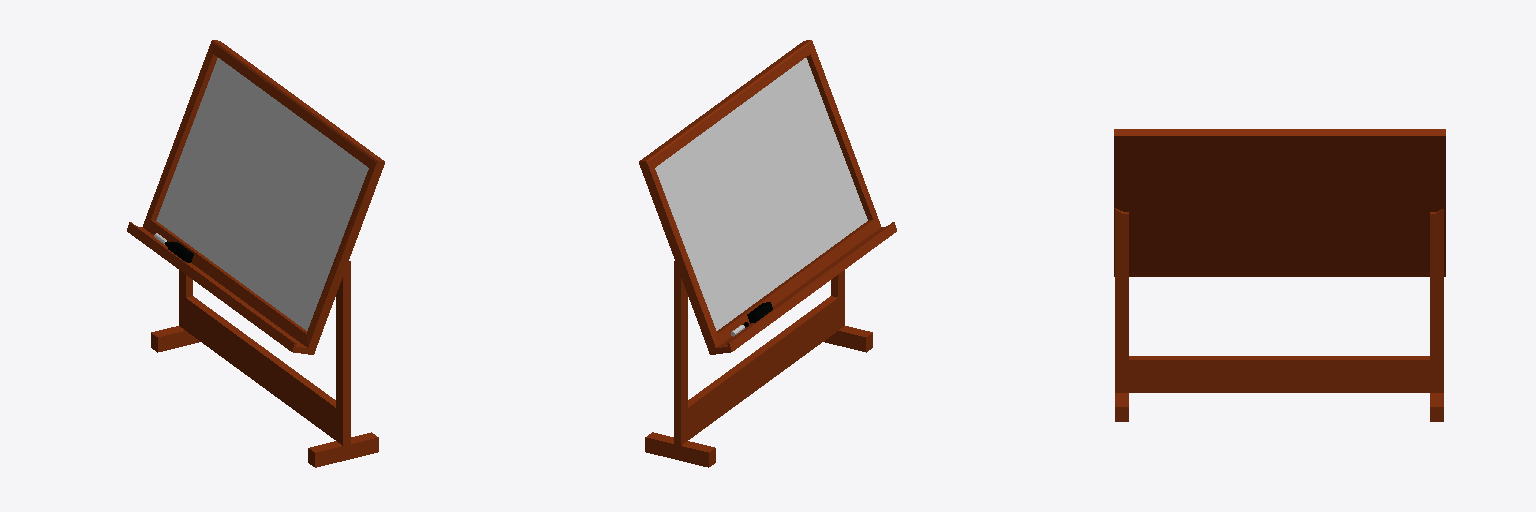
The model's file is whiteboard.obj.
3 views of the same model, side by side, from view 1: azimuth 30°, elevation 25°; view 2: azimuth 150°, elevation 25°; view 3: azimuth 270°, elevation 25° (orthographic).
Visible parts, largest first — view 1: Whiteboard; view 2: Whiteboard; view 3: Whiteboard.
Boxes of the visible parts, <box> form: Whiteboard: <box>127,40,384,467</box>; Whiteboard: <box>639,40,896,467</box>; Whiteboard: <box>1114,129,1445,421</box>.
Size of the model in its own units: 1.19 by 3.55 by 3.65.